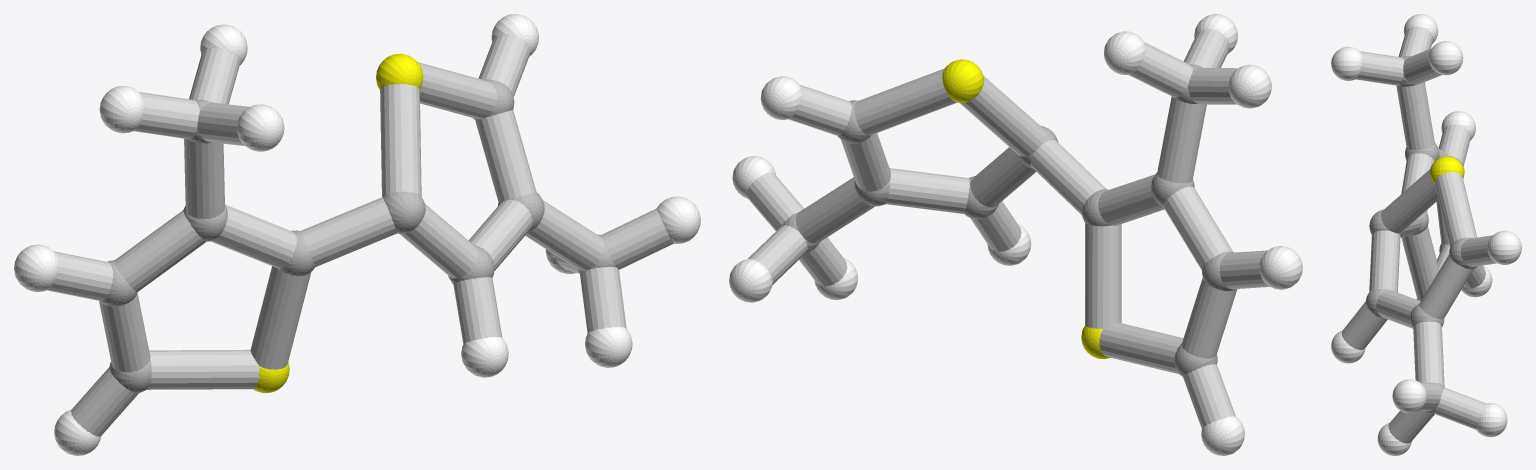
The model's file is Methylthiophene_Phi_50_Theta_330_Methylthiophene.glb.
3 renders of one model, left to right at view 1: azimuth 30°, elevation 25°; view 2: azimuth 150°, elevation 25°; view 3: azimuth 270°, elevation 25°, orthographic. The views are drawn at different scales.
Parts seen in each view (by area): view 1: grp7965, grp3621, grp1, grp7241; view 2: grp7965, grp3621, grp1, grp7241; view 3: grp7965, grp3621, grp1, grp7241.
Part boxes in pixels (left/top/right/bottom): grp7965: left=47, top=34, right=673, bottom=436; grp3621: left=14, top=14, right=700, bottom=455; grp1: left=100, top=79, right=615, bottom=393; grp7241: left=253, top=53, right=423, bottom=393; grp7965: left=746, top=29, right=1269, bottom=428; grp3621: left=729, top=14, right=1302, bottom=455; grp1: left=781, top=64, right=1235, bottom=376; grp7241: left=942, top=59, right=1109, bottom=359; grp7965: left=1341, top=26, right=1496, bottom=443; grp3621: left=1331, top=14, right=1521, bottom=455; grp1: left=1366, top=56, right=1477, bottom=413; grp7241: left=1416, top=156, right=1464, bottom=299.
Size of the model in its own units: 9.4 by 5.71 by 3.32.
